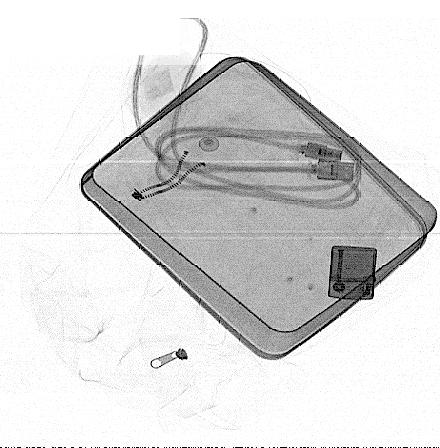Lighter: (327, 245, 378, 300)
